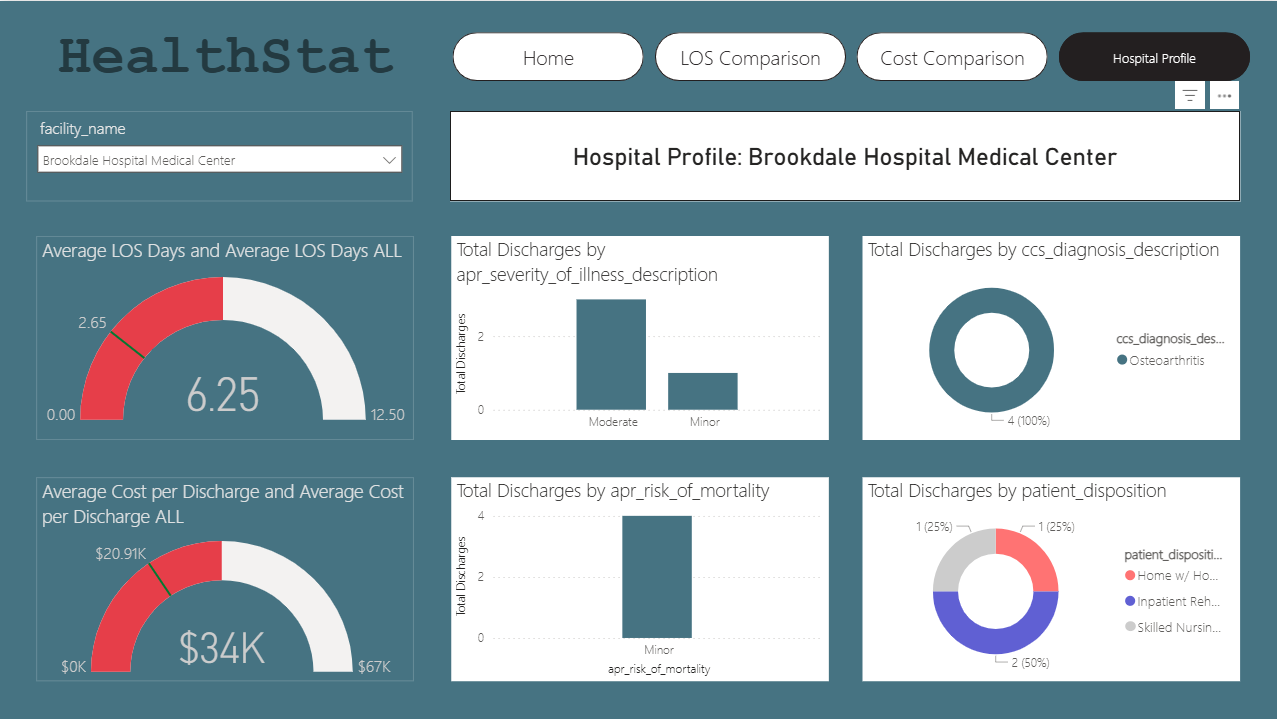

This screenshot's page, from the dashboard's own definition file:
{"tool":"powerbi","page":{"name":"Hospital Profile","canvas":[1280,720],"ordinal":3},"visuals":[{"type":"gauge","fields":{"Y":["_Measures.Average LOS Days"],"TargetValue":["_Measures.Average LOS Days ALL"]},"box":[35.7,235.3,377.9,203.9],"z":0},{"type":"gauge","fields":{"Y":["_Measures.Average Cost per Discharge"],"TargetValue":["_Measures.Average Cost per Discharge ALL"]},"box":[35.7,476.3,377.9,203.9],"z":1000},{"type":"clusteredColumnChart","fields":{"Y":["_Measures.Total Discharges"],"Category":["hospital_discharges.apr_severity_of_illness_description"]},"box":[450.6,235.3,377.9,203.9],"z":2000},{"type":"clusteredColumnChart","fields":{"Y":["_Measures.Total Discharges"],"Category":["hospital_discharges.apr_risk_of_mortality"]},"box":[450.6,476.3,377.9,203.9],"z":3000},{"type":"donutChart","fields":{"Y":["_Measures.Total Discharges"],"Category":["hospital_discharges.ccs_diagnosis_description"]},"box":[862.8,235.3,377.9,203.9],"z":4000},{"type":"donutChart","fields":{"Y":["_Measures.Total Discharges"],"Series":["hospital_discharges.patient_disposition"]},"box":[862.8,476.3,377.9,203.9],"z":5000},{"type":"slicer","fields":{"Values":["hospital_discharges.facility_name"]},"box":[26.7,110,386.7,90],"z":6000},{"type":"card","fields":{"Values":["_Measures.Title Selected Facility"]},"box":[450,110,790,90],"z":7000},{"type":"pageNavigator","box":[452.1,31.4,800,49.9],"z":8000},{"type":"textbox","box":[0,20,451.4,80],"z":8001}]}

Visuals, with their boxes in screenshot pixels (x1, y1, x2, y2), scaled from the page's 1280x720 canvas onto the 1277x719 screenshot:
gauge - _Measures.Average LOS Days x _Measures.Average LOS Days ALL: detection(36, 235, 413, 439)
gauge - _Measures.Average Cost per Discharge x _Measures.Average Cost per Discharge ALL: detection(36, 476, 413, 679)
clusteredColumnChart - _Measures.Total Discharges x hospital_discharges.apr_severity_of_illness_description: detection(450, 235, 827, 439)
clusteredColumnChart - _Measures.Total Discharges x hospital_discharges.apr_risk_of_mortality: detection(450, 476, 827, 679)
donutChart - _Measures.Total Discharges x hospital_discharges.ccs_diagnosis_description: detection(861, 235, 1238, 439)
donutChart - _Measures.Total Discharges x hospital_discharges.patient_disposition: detection(861, 476, 1238, 679)
slicer - hospital_discharges.facility_name: detection(27, 110, 412, 200)
card - _Measures.Title Selected Facility: detection(449, 110, 1237, 200)
pageNavigator: detection(451, 31, 1249, 81)
textbox: detection(0, 20, 450, 100)
